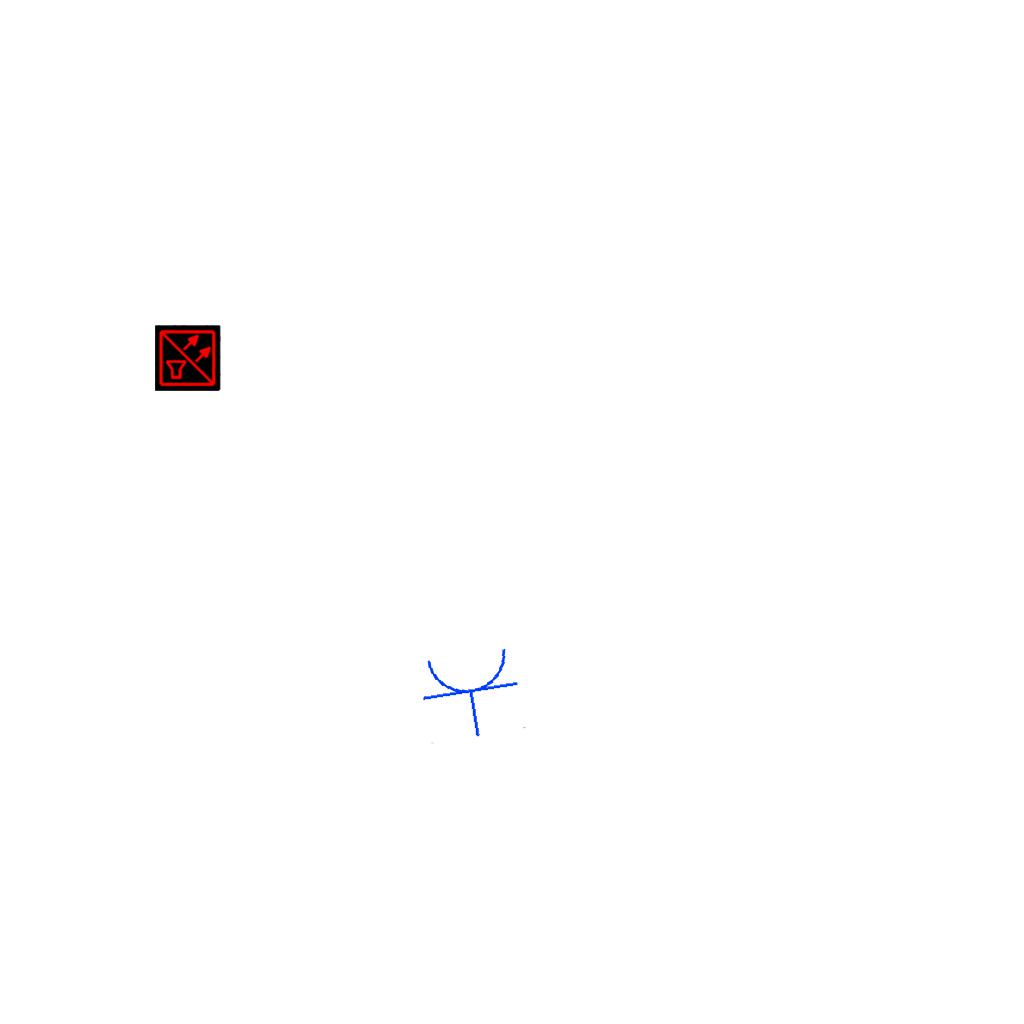OKW_Multisensormelder_(Kombination_optischer_Rauch-Kahlenmonoxid_Waerme-Melder): (155, 325, 221, 391)
Schukosteckdose_einfach: (415, 642, 529, 745)
